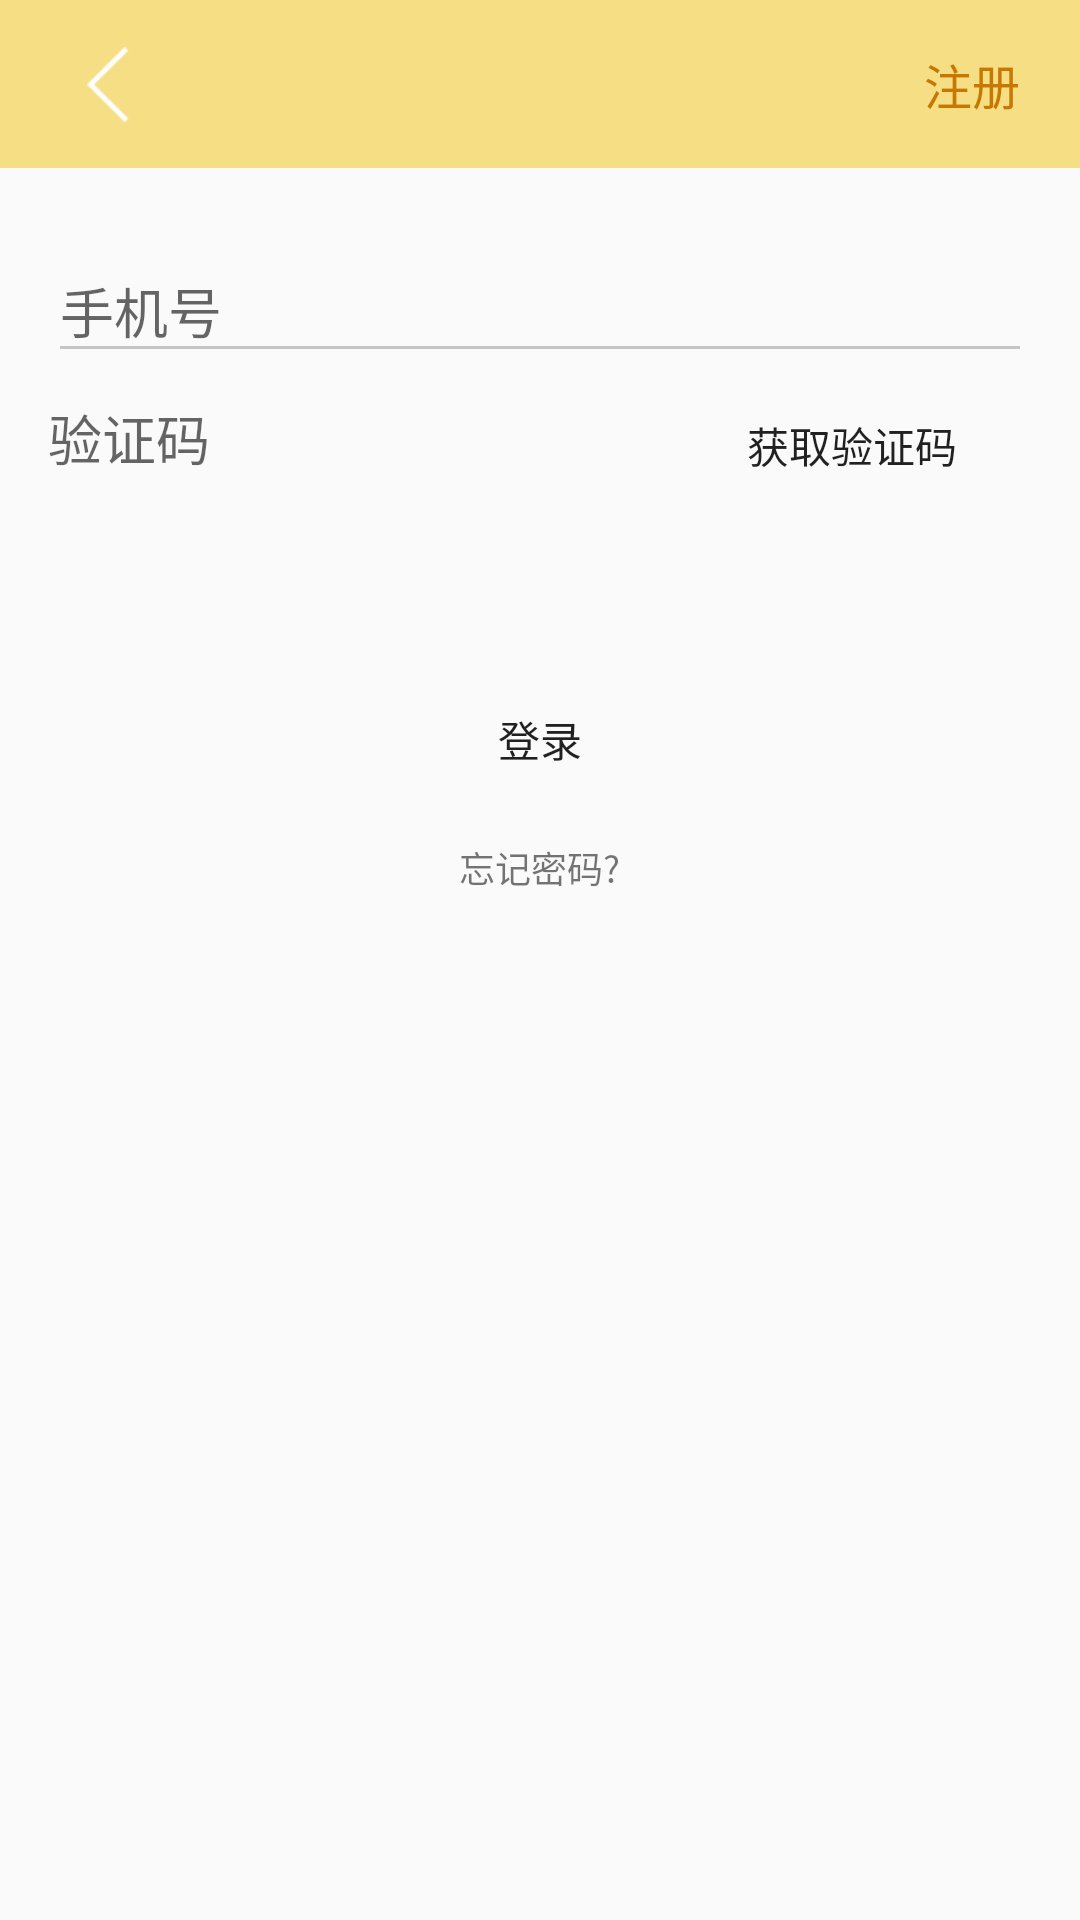

Screen size 1080w x 1920h. Icon name, then its box in pixels as (x1, y1, x2, y2):
back: (87, 47, 128, 122)
